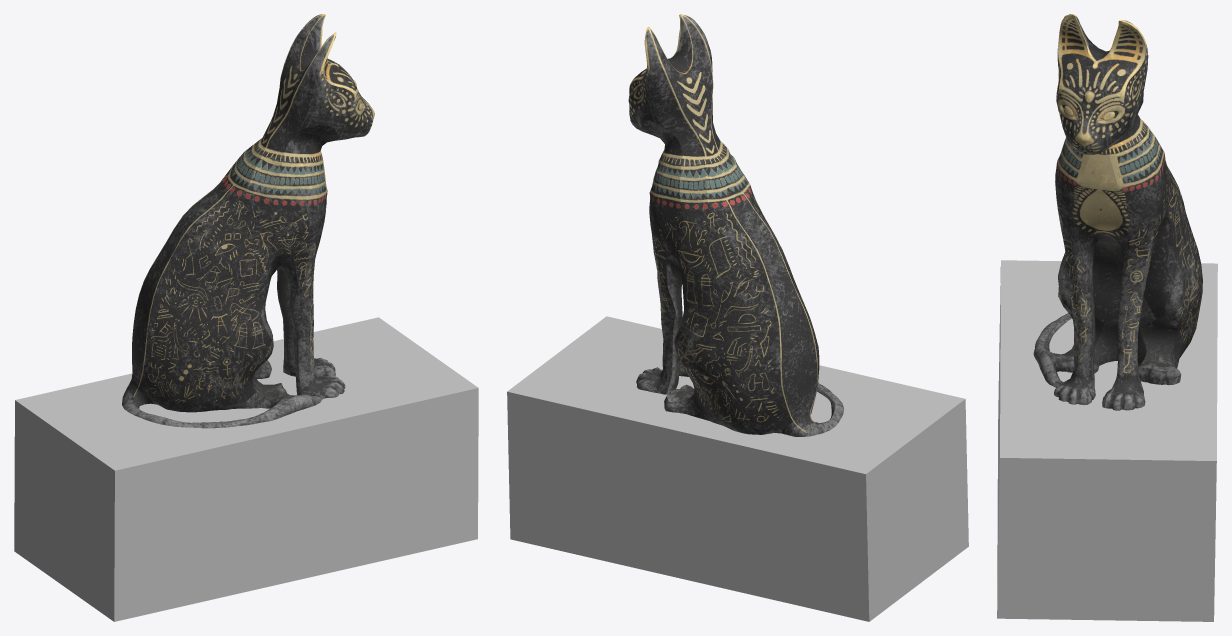
The model's file is cat with stand.fbx.
The picture shows the model from 3 angles, left to right: view 1: azimuth 30°, elevation 25°; view 2: azimuth 150°, elevation 25°; view 3: azimuth 270°, elevation 25°; orthographic projection. The views are drawn at different scales.
Parts seen in each view (by area): view 1: Cube.003, Cat_Statue.001; view 2: Cube.003, Cat_Statue.001; view 3: Cube.003, Cat_Statue.001.
Boxes of the visible parts, <box> form: Cube.003: <box>14,317,478,621</box>; Cat_Statue.001: <box>122,14,374,428</box>; Cube.003: <box>507,316,968,621</box>; Cat_Statue.001: <box>628,14,843,436</box>; Cube.003: <box>997,260,1217,621</box>; Cat_Statue.001: <box>1033,14,1202,410</box>.
Bounding box in the file's own units: 1358 × 1808 × 657.
